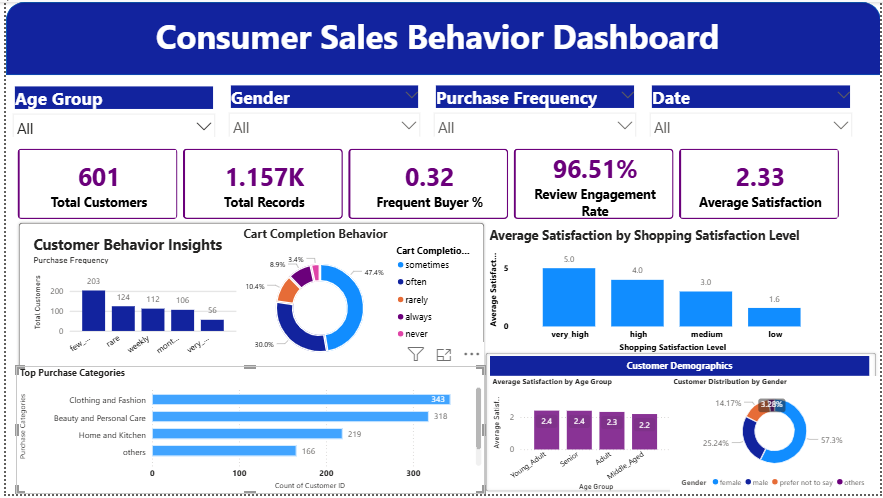

What the dashboard file says about the page in this screenshot:
{"tool":"powerbi","page":{"name":"Page 1","canvas":[1280,720],"ordinal":0},"visuals":[{"type":"shape","box":[0,0,1280,107.1],"z":0},{"type":"textbox","box":[0,11.4,1262.9,134.3],"z":1000},{"type":"slicer","fields":{"Values":["customer_sales_behavior.Age_Group"]},"box":[0,118,316,80],"z":2000},{"type":"slicer","fields":{"Values":["customer_sales_behavior.Gender"]},"box":[315.7,117.1,300,80],"z":3000},{"type":"slicer","fields":{"Values":["customer_sales_behavior.Purchase_Frequency"]},"box":[616.1,117.1,316.1,80.5],"z":4000},{"type":"slicer","fields":{"Values":["customer_sales_behavior.Date"]},"box":[932.2,117.1,316.1,80.5],"z":5000},{"type":"cardVisual","fields":{"Data":["customer_sales_behavior.Total Customers","customer_sales_behavior.Total Records","customer_sales_behavior.Frequent Buyer %","customer_sales_behavior.Review Engagement Rate","customer_sales_behavior.Average Satisfaction"]},"box":[0,197.6,1236.6,137.6],"z":6000},{"type":"shape","box":[14,319,689,236],"z":7000},{"type":"textbox","box":[35.1,335.1,553.2,43.9],"z":8000},{"type":"clusteredColumnChart","title":" Purchase Frequency","fields":{"Category":["customer_sales_behavior.Purchase_Frequency"],"Y":["customer_sales_behavior.Total Customers"]},"box":[35.7,370,307.1,177.1],"z":9000},{"type":"donutChart","title":" Cart Completion Behavior","fields":{"Category":["customer_sales_behavior.Cart_Completion_Frequency"],"Y":["CountNonNull(customer_sales_behavior.Customer_ID)"]},"box":[343,327,348,220],"z":10000},{"type":"clusteredColumnChart","fields":{"Category":["customer_sales_behavior.Shopping_Satisfaction_Level"],"Y":["customer_sales_behavior.Average Satisfaction"]},"box":[702.5,327.5,508.8,190],"z":11000},{"type":"textbox","box":[708,518,555,29],"z":12000},{"type":"clusteredColumnChart","fields":{"Category":["customer_sales_behavior.Age_Group"],"Y":["customer_sales_behavior.Average Satisfaction"]},"box":[707.5,546.7,271.7,172.5],"z":13000},{"type":"shape","box":[698,509,579,211],"z":14000},{"type":"clusteredBarChart","title":" Top Purchase Categories","fields":{"Category":["customer_sales_behavior.Purchase_Categories"],"Y":["CountNonNull(customer_sales_behavior.Customer_ID)"]},"box":[14,532,687,188],"z":15000},{"type":"donutChart","title":"Customer Distribution by Gender","fields":{"Category":["customer_sales_behavior.Gender"],"Y":["CountNonNull(customer_sales_behavior.Customer_ID)"]},"box":[971,547,306,173],"z":16000}]}

Visuals, with their boxes in screenshot pixels (x1, y1, x2, y2), scaled from the page's 1280x720 canvas onto the 883x498 screenshot:
shape: x1=0 y1=0 x2=882 y2=74
textbox: x1=0 y1=8 x2=871 y2=101
slicer - customer_sales_behavior.Age_Group: x1=0 y1=82 x2=218 y2=137
slicer - customer_sales_behavior.Gender: x1=218 y1=81 x2=425 y2=136
slicer - customer_sales_behavior.Purchase_Frequency: x1=425 y1=81 x2=643 y2=137
slicer - customer_sales_behavior.Date: x1=643 y1=81 x2=861 y2=137
cardVisual - customer_sales_behavior.Total Customers x customer_sales_behavior.Total Records: x1=0 y1=137 x2=853 y2=232
shape: x1=10 y1=221 x2=485 y2=384
textbox: x1=24 y1=232 x2=406 y2=262
" Purchase Frequency" clusteredColumnChart: x1=25 y1=256 x2=236 y2=378
" Cart Completion Behavior" donutChart: x1=237 y1=226 x2=477 y2=378
clusteredColumnChart - customer_sales_behavior.Shopping_Satisfaction_Level x customer_sales_behavior.Average Satisfaction: x1=485 y1=227 x2=836 y2=358
textbox: x1=488 y1=358 x2=871 y2=378
clusteredColumnChart - customer_sales_behavior.Age_Group x customer_sales_behavior.Average Satisfaction: x1=488 y1=378 x2=675 y2=497
shape: x1=482 y1=352 x2=881 y2=497
" Top Purchase Categories" clusteredBarChart: x1=10 y1=368 x2=484 y2=497
"Customer Distribution by Gender" donutChart: x1=670 y1=378 x2=881 y2=497
